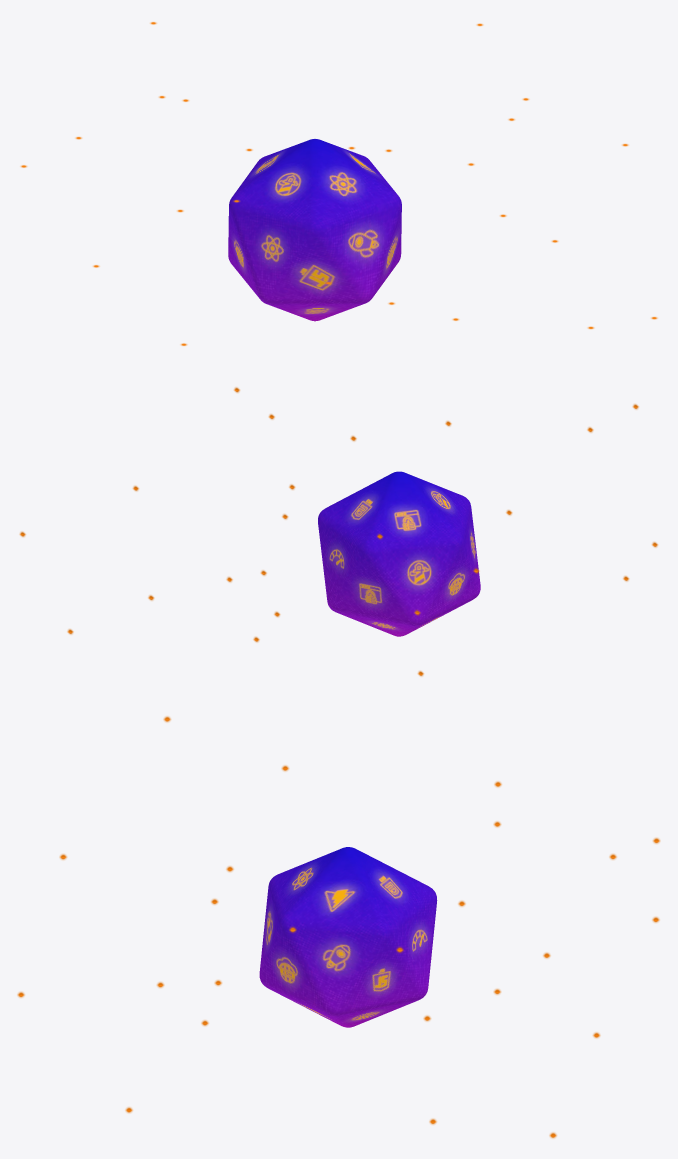
The picture shows the model from 3 angles, top to bottom: view 1: azimuth 30°, elevation 25°; view 2: azimuth 150°, elevation 25°; view 3: azimuth 270°, elevation 25°; orthographic projection. The views are drawn at different scales.
Visible parts, largest first — view 1: polySurface92.030; view 2: polySurface92.030, Plane.004_ground_0; view 3: polySurface92.030, Plane.004_ground_0.
Boxes of the visible parts, x1,y1,x2,y2 form: polySurface92.030: [228, 139, 401, 321]; polySurface92.030: [318, 471, 480, 636]; Plane.004_ground_0: [19, 387, 657, 676]; polySurface92.030: [259, 847, 437, 1027]; Plane.004_ground_0: [17, 716, 660, 1138].
Bounding box in the file's own units: 6.2 × 2.49 × 6.36.
2 materials, 2 textured.
